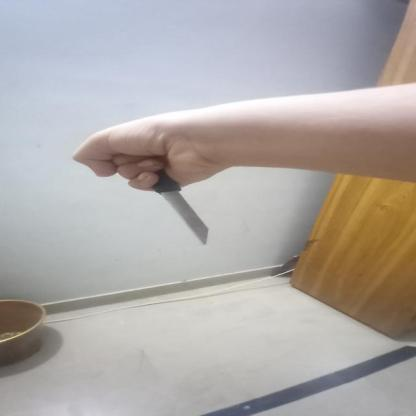Knife: (133, 150, 207, 244)
